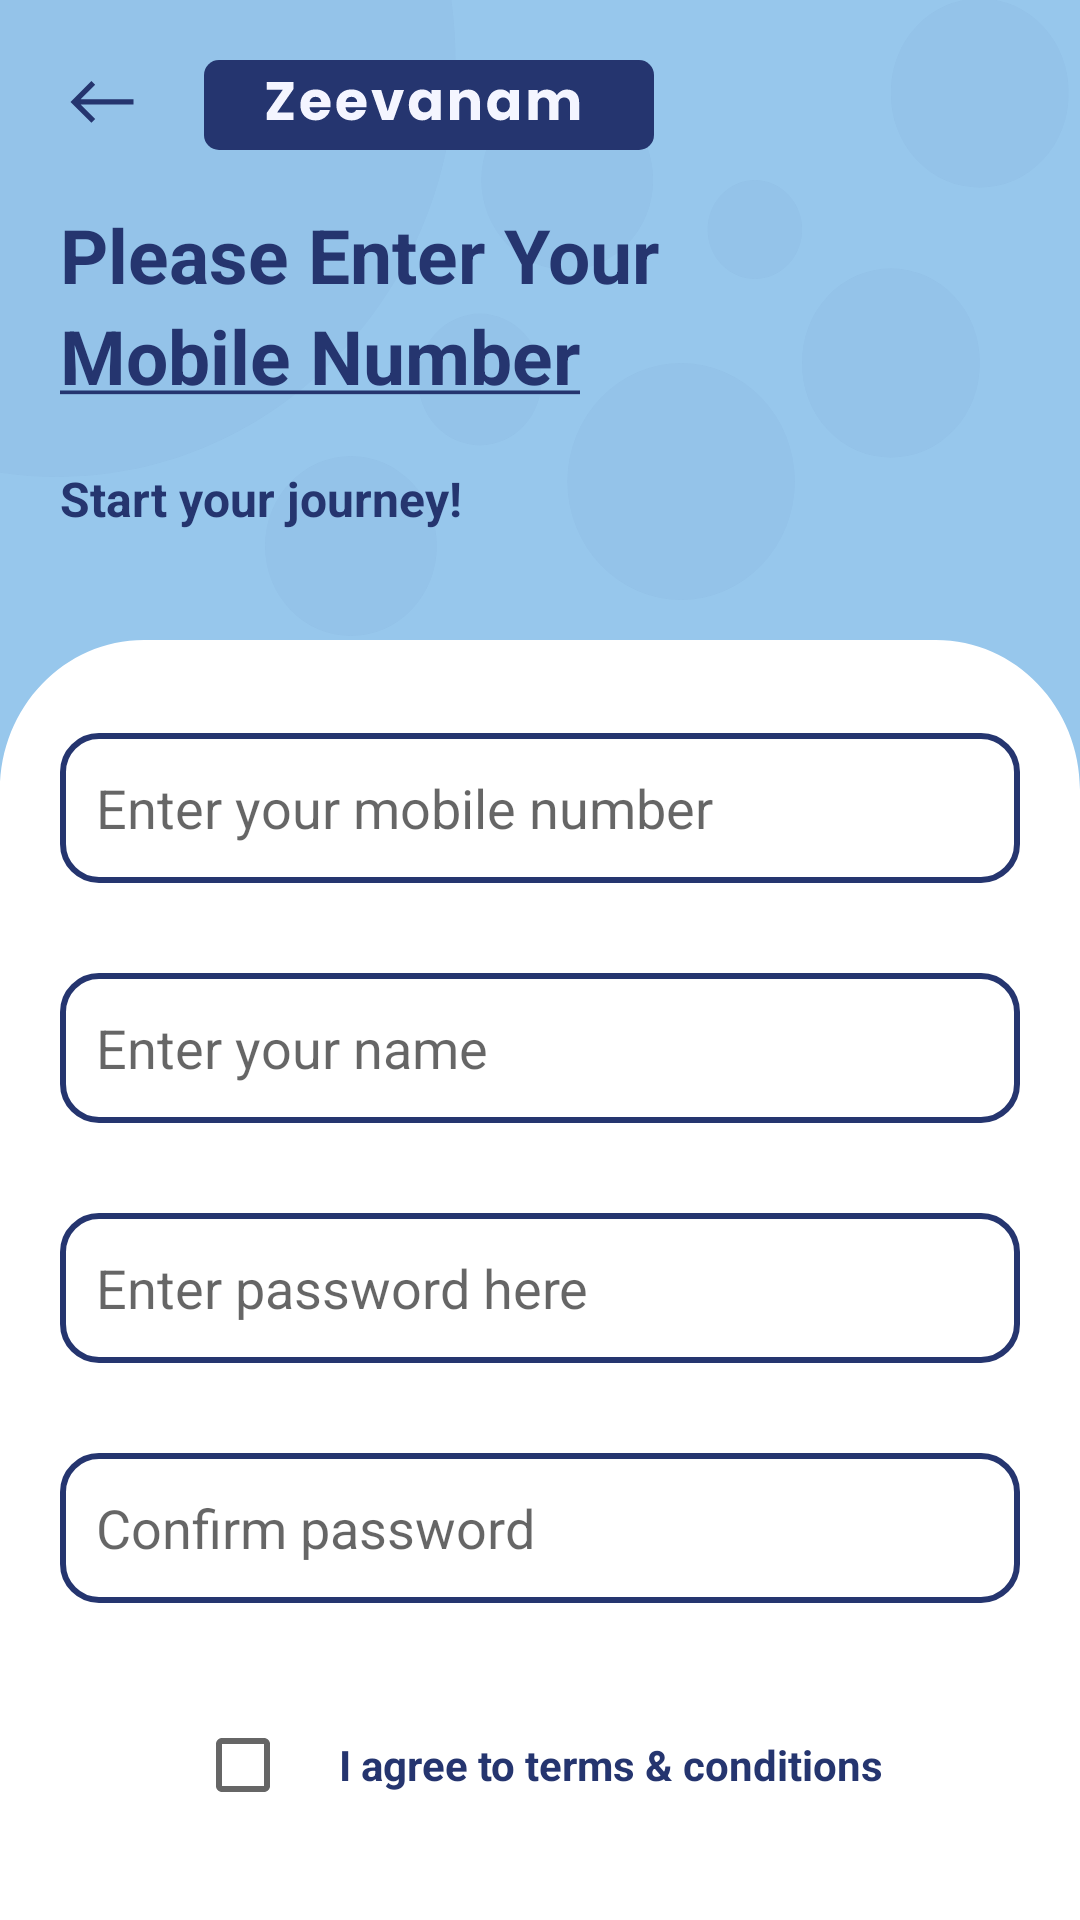

Locate icon controls on the screen. Image size 1080 × 1920, boxes as (x1,y1,x2,y2).
back: (71,81,134,123)
